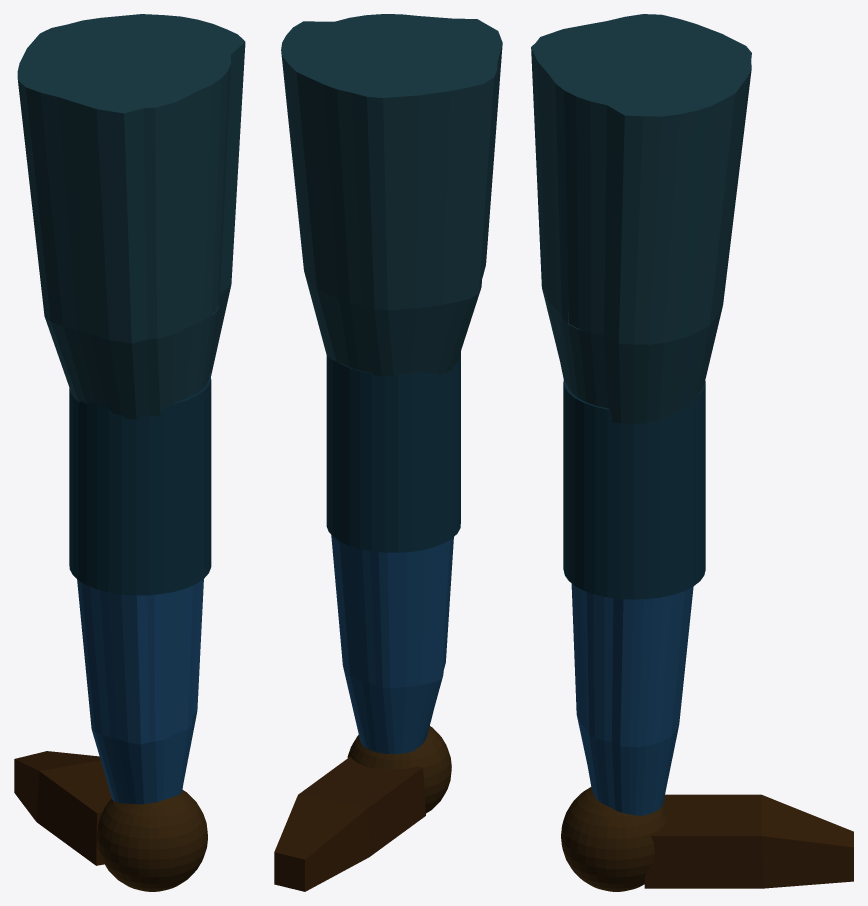
Rendered from legs2.fbx.
3 renders of one model, left to right at view 1: azimuth 30°, elevation 25°; view 2: azimuth 150°, elevation 25°; view 3: azimuth 270°, elevation 25°, orthographic. The views are drawn at different scales.
Visible parts, largest first — view 1: Cylinder, Cylinder.001, Cylinder.002, Sphere, Cube; view 2: Cylinder, Cylinder.001, Cylinder.002, Cube, Sphere; view 3: Cylinder, Cylinder.001, Cylinder.002, Cube, Sphere.
Boxes of the visible parts, x1,y1,x2,y2 form: Cylinder: (17,14,245,419); Cylinder.001: (69,373,211,595); Cylinder.002: (77,579,203,804); Sphere: (97,790,207,891); Cube: (14,751,111,865); Cylinder: (281,14,502,376); Cylinder.001: (326,352,460,552); Cylinder.002: (331,535,453,754); Cube: (274,756,425,891); Sphere: (347,726,451,813); Cylinder: (531,14,751,423); Cylinder.001: (563,380,705,599); Cylinder.002: (571,583,693,815); Cube: (644,794,853,888); Sphere: (561,787,668,891).
Size of the model in its own units: 270 by 996 by 355.
